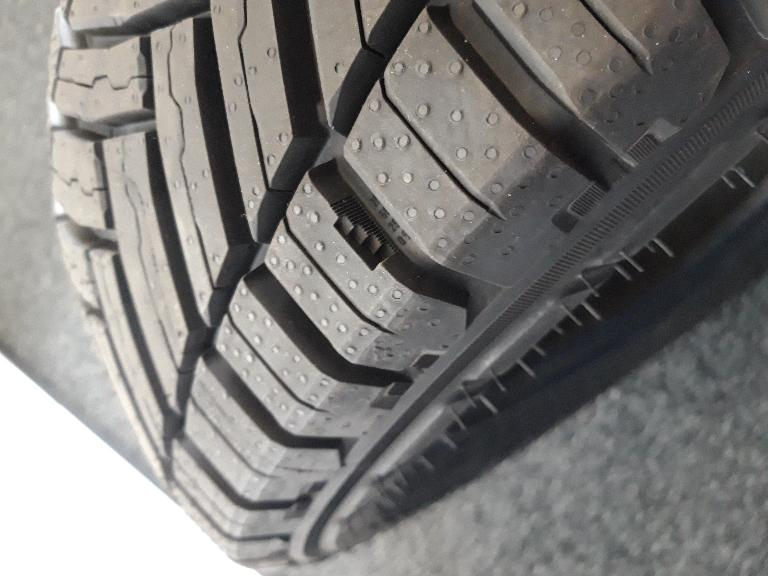temoin:100: (328, 194, 402, 274)
